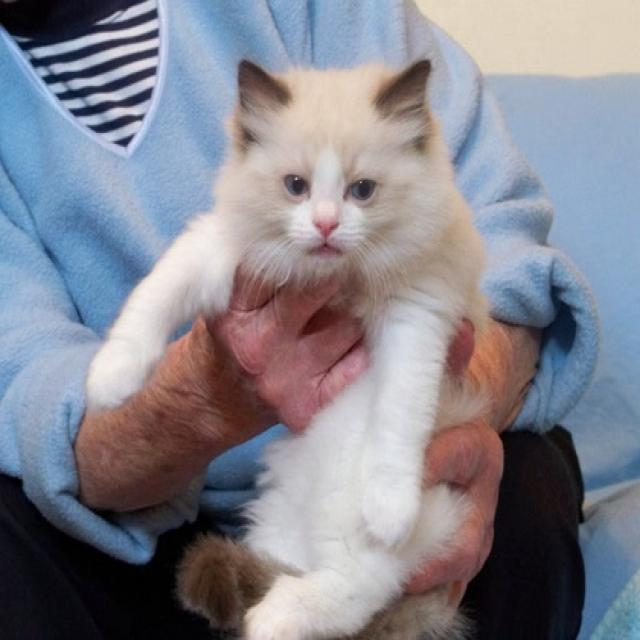Ragdoll: (237, 58, 429, 264)
